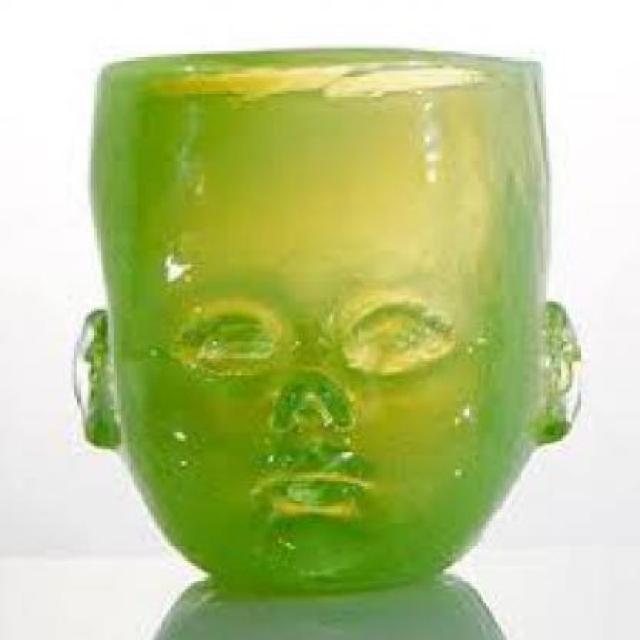kaca: (70, 46, 576, 597)
